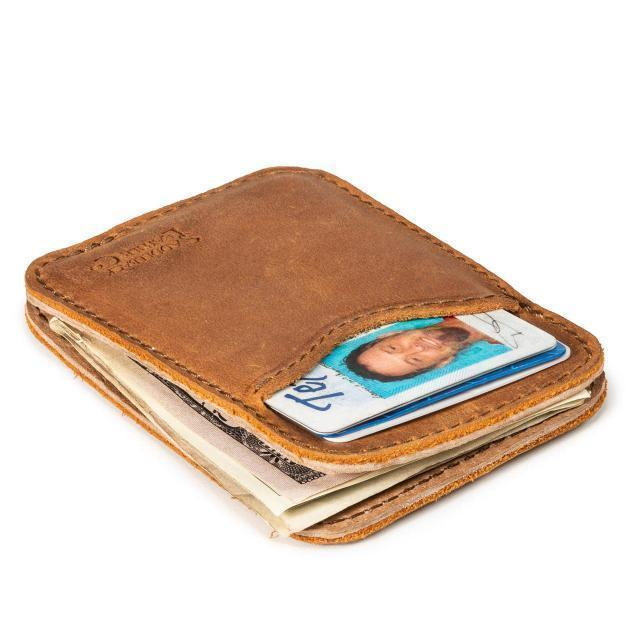wallet: (21, 155, 612, 547)
